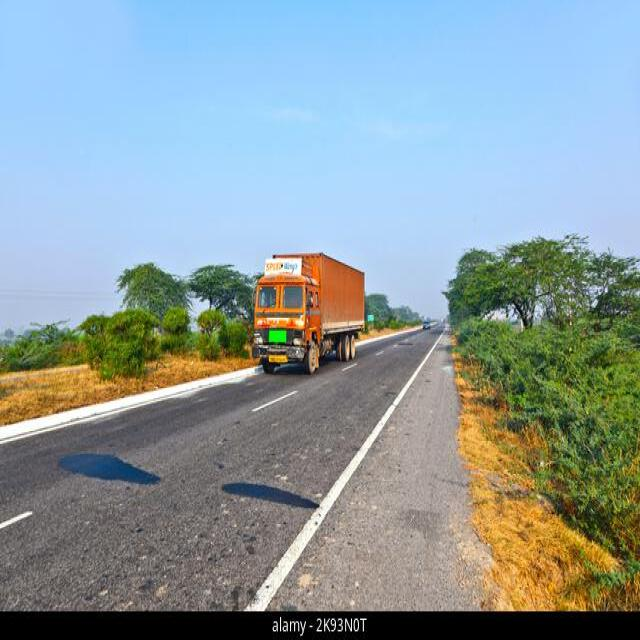normal_truck: (253, 254, 363, 372)
